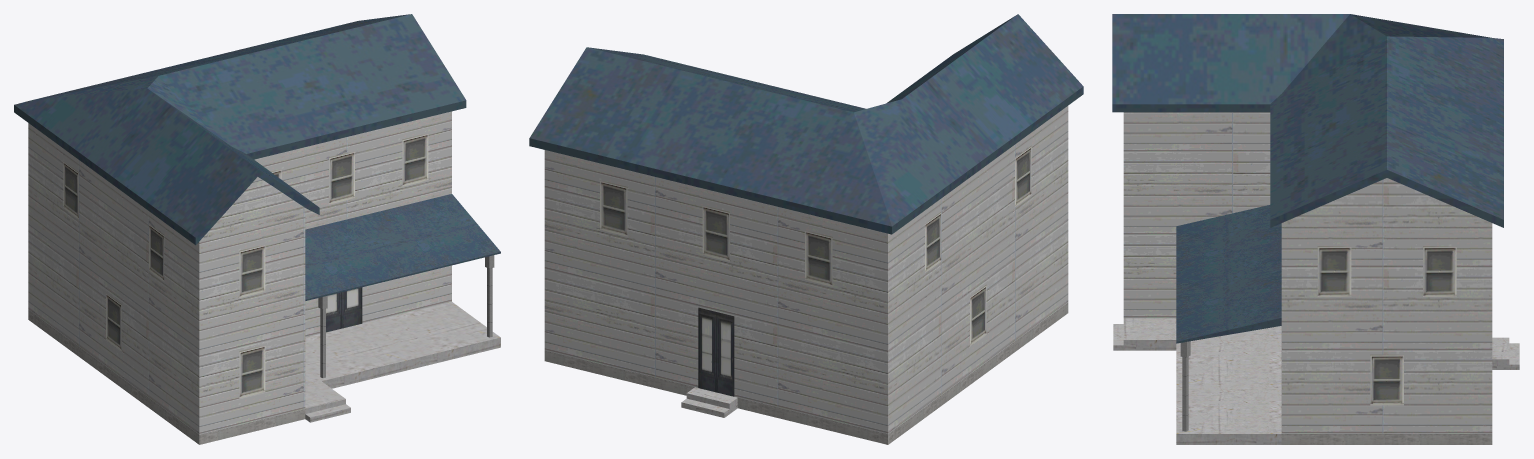
File: psx_house.glb
3 views of the same model, side by side, from view 1: azimuth 30°, elevation 25°; view 2: azimuth 150°, elevation 25°; view 3: azimuth 270°, elevation 25° (orthographic). The views are drawn at different scales.
Parts seen in each view (by area): view 1: PSX House; view 2: PSX House; view 3: PSX House.
Boxes of the visible parts, x1,y1,x2,y2 form: PSX House: (14,14,500,444); PSX House: (529,14,1083,444); PSX House: (1112,14,1519,444).
Size of the model in its own units: 7.16 by 5.31 by 6.82.
Materials: 7 (7 with a texture image).
